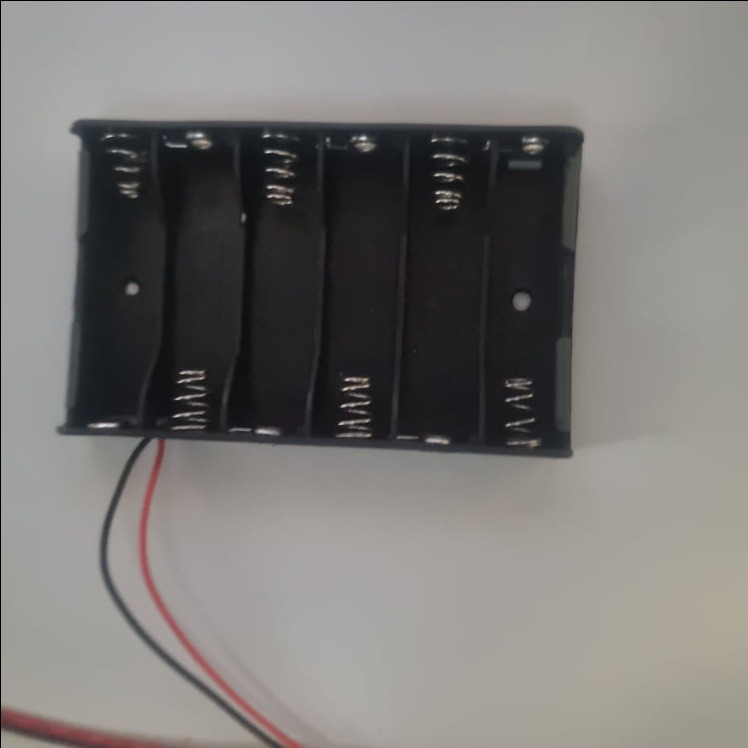BATTERY BOX: (67, 120, 584, 457)
